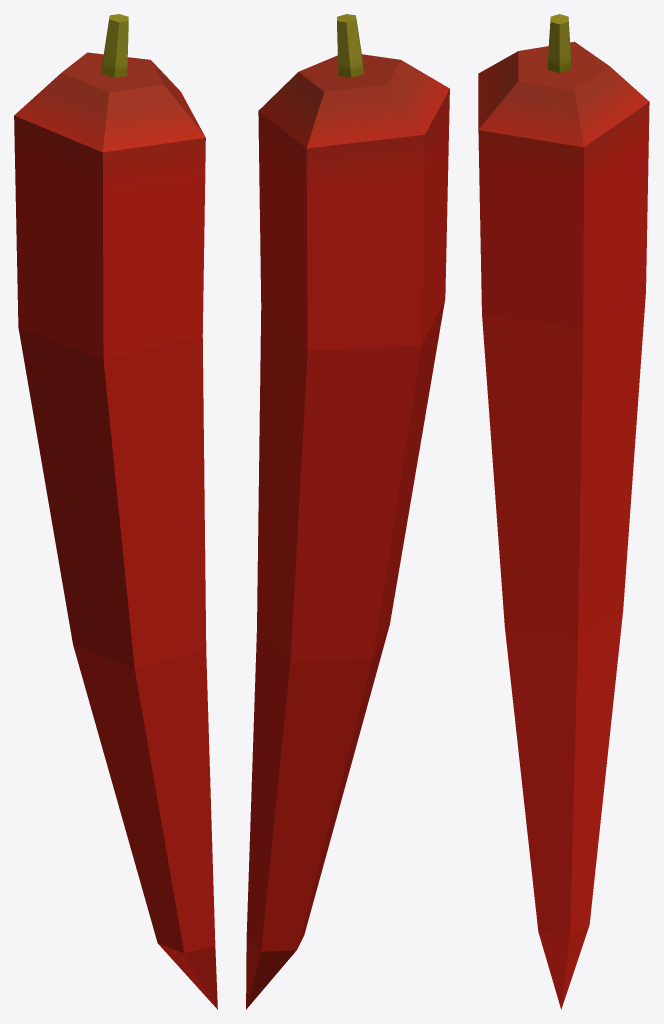
File: Chilli_Red.fbx
The picture shows the model from 3 angles, left to right: view 1: azimuth 30°, elevation 25°; view 2: azimuth 150°, elevation 25°; view 3: azimuth 270°, elevation 25°; orthographic projection. The views are drawn at different scales.
Visible parts, largest first — view 1: Chilli_Red_All, Chilli_Red_Top, Chilli_Red_Down; view 2: Chilli_Red_Top, Chilli_Red_Down, Chilli_Red_All; view 3: Chilli_Red_All, Chilli_Red_Top, Chilli_Red_Down.
Part boxes in pixels (x1,y1,x2,y2): Chilli_Red_All: (14,14,217,1008); Chilli_Red_Top: (18,14,205,501); Chilli_Red_Down: (43,474,217,1009); Chilli_Red_Top: (258,14,449,494); Chilli_Red_Down: (246,465,406,1009); Chilli_Red_All: (248,14,449,1004); Chilli_Red_All: (478,14,609,1007); Chilli_Red_Top: (478,14,649,470); Chilli_Red_Down: (492,439,635,1009).
Bounding box in the file's own units: 2.78 × 14.12 × 2.31.
